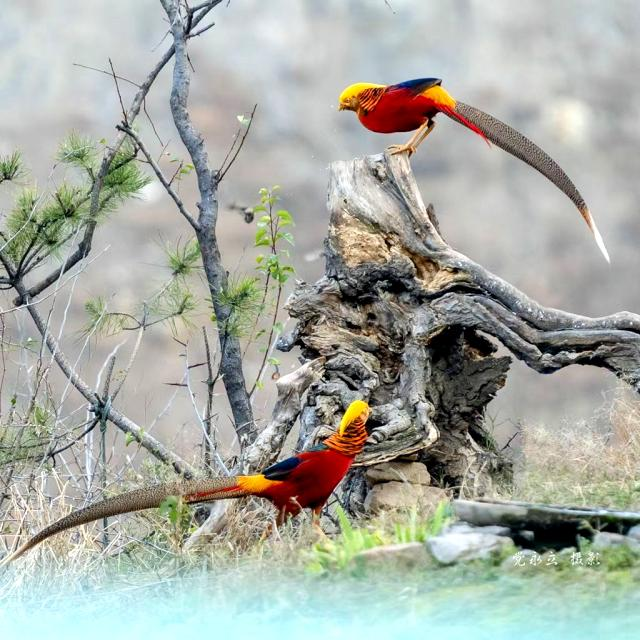Chrysolophus pictus feather: (455, 103, 609, 257), (0, 478, 235, 565)
